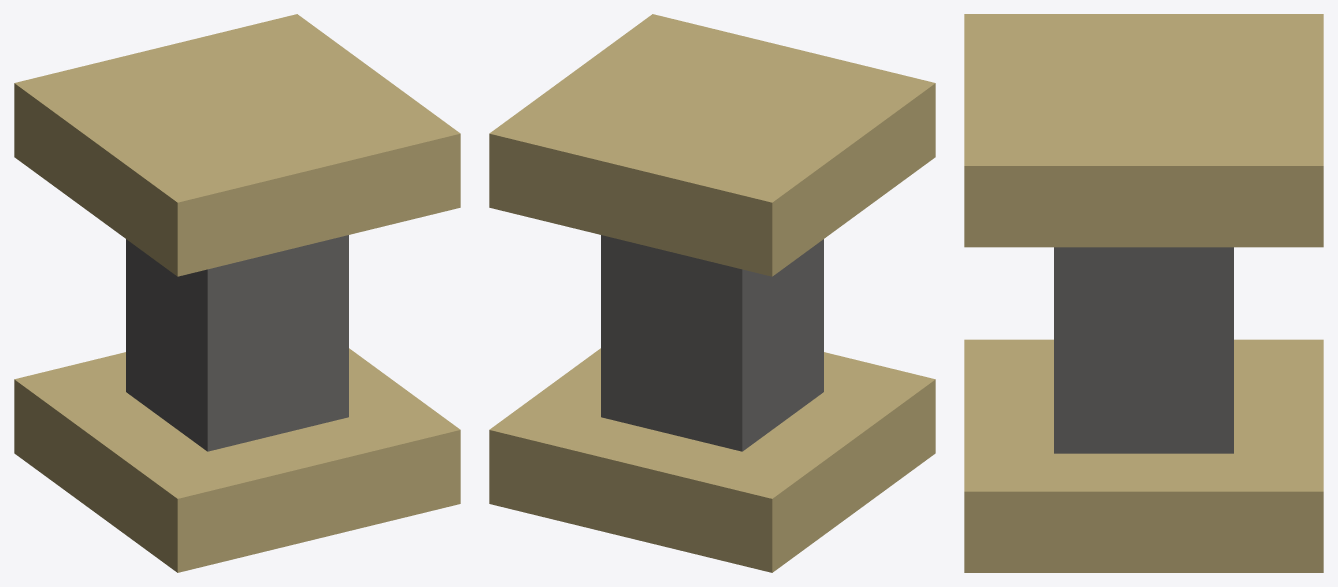
Rendered from beacon_mast.glb.
3 views of the same model, side by side, from view 1: azimuth 30°, elevation 25°; view 2: azimuth 150°, elevation 25°; view 3: azimuth 270°, elevation 25° (orthographic). The views are drawn at different scales.
Bounding box in the file's own units: 4 × 5 × 4.
